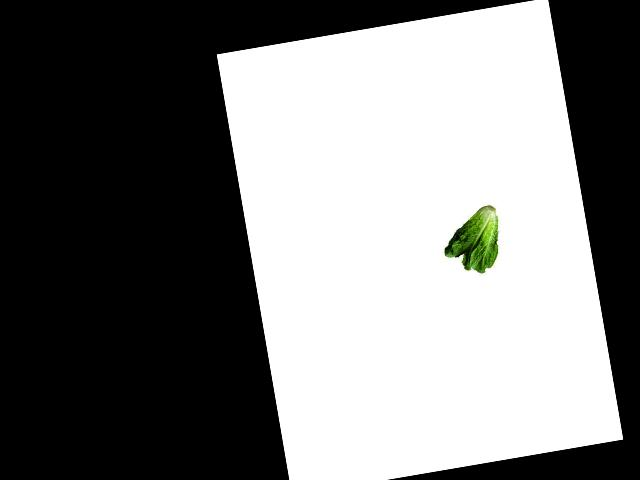lettuce: (434, 199, 511, 279)
